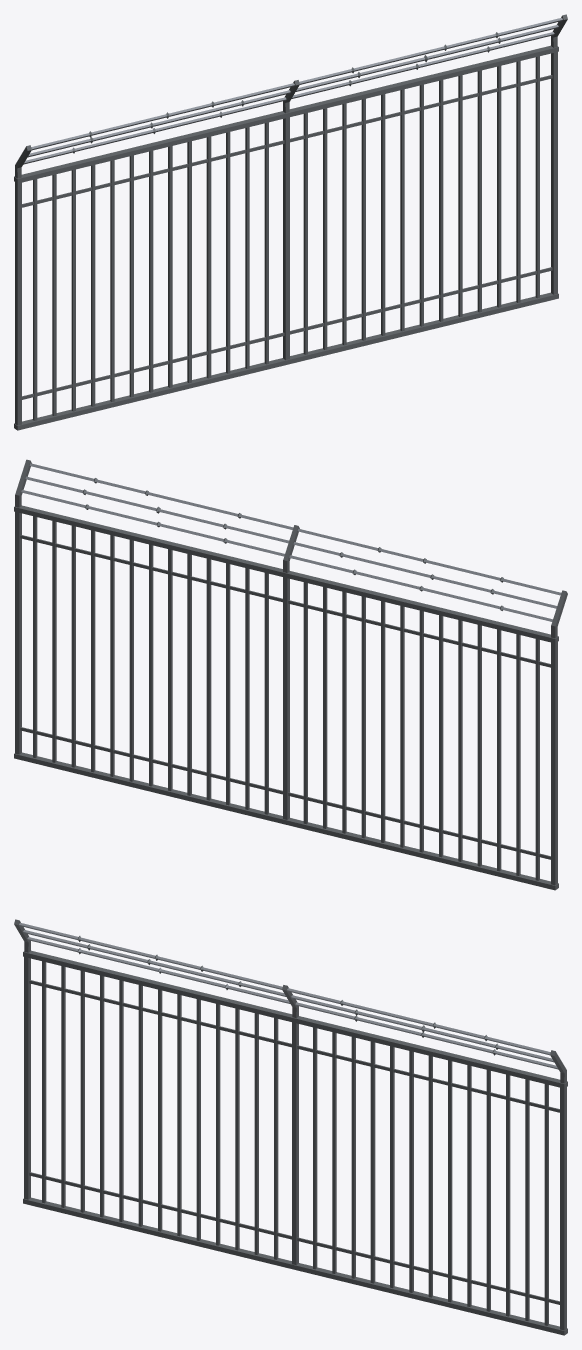
File: Fence_01.fbx
3 views of the same model, one above another, from view 1: azimuth 30°, elevation 25°; view 2: azimuth 150°, elevation 25°; view 3: azimuth 330°, elevation 25° (orthographic).
Parts seen in each view (by area): view 1: Fence_01; view 2: Fence_01; view 3: Fence_01.
Part boxes in pixels (left/top/right/bottom): Fence_01: left=14, top=14, right=567, bottom=430; Fence_01: left=14, top=459, right=567, bottom=890; Fence_01: left=14, top=919, right=567, bottom=1335.
Bounding box in the file's own units: 500 × 256 × 21.43.
